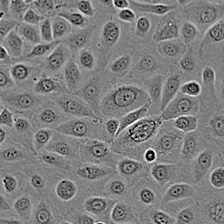cell: (128, 118, 156, 142), (113, 86, 135, 108), (158, 21, 177, 40), (209, 199, 224, 223), (77, 167, 106, 179), (57, 180, 75, 199), (120, 160, 142, 175), (36, 204, 52, 224), (48, 49, 63, 70), (209, 20, 224, 41), (199, 6, 217, 23), (59, 13, 84, 25), (104, 23, 118, 42), (165, 75, 178, 95), (71, 121, 87, 137), (92, 141, 107, 158), (83, 82, 97, 100), (90, 198, 106, 213), (154, 165, 169, 181), (66, 64, 78, 84), (71, 33, 88, 47), (176, 98, 191, 113), (112, 205, 126, 221), (13, 65, 29, 79), (141, 54, 155, 70), (2, 149, 23, 159), (40, 110, 56, 123), (18, 94, 34, 107), (124, 112, 140, 125), (212, 117, 224, 134), (9, 34, 21, 51), (185, 137, 196, 155), (176, 116, 190, 130), (41, 78, 55, 92), (23, 28, 38, 41), (153, 212, 169, 224), (212, 170, 224, 186), (199, 153, 211, 169), (183, 23, 195, 39), (168, 186, 187, 196), (112, 58, 129, 69), (179, 210, 192, 224), (140, 189, 153, 203), (3, 176, 16, 190), (181, 57, 194, 71), (42, 20, 51, 40), (79, 0, 91, 15), (81, 52, 92, 68), (163, 45, 179, 56), (37, 210, 50, 223), (70, 101, 83, 114), (187, 81, 200, 94), (158, 136, 170, 150), (137, 17, 149, 31), (0, 110, 11, 125), (32, 45, 47, 56), (25, 10, 40, 21), (154, 3, 169, 14), (43, 156, 61, 165), (16, 199, 28, 212), (36, 132, 49, 144), (12, 0, 24, 13), (107, 120, 118, 134), (203, 69, 214, 83), (120, 9, 134, 20), (111, 182, 123, 194), (16, 119, 28, 131), (151, 83, 159, 101), (35, 0, 53, 8), (145, 149, 156, 162), (56, 144, 70, 154), (0, 24, 13, 34), (54, 23, 64, 36), (32, 176, 43, 187), (0, 71, 7, 87), (1, 0, 7, 10), (170, 135, 177, 142)
